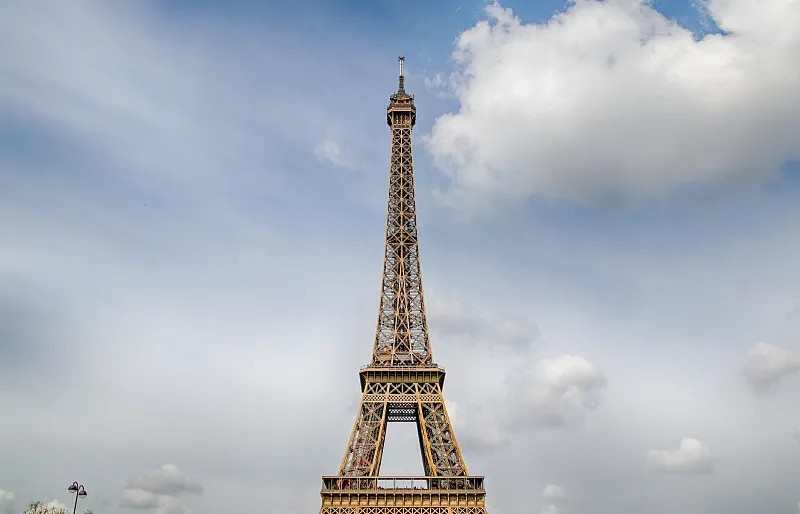Eiffel: (316, 56, 487, 514)
